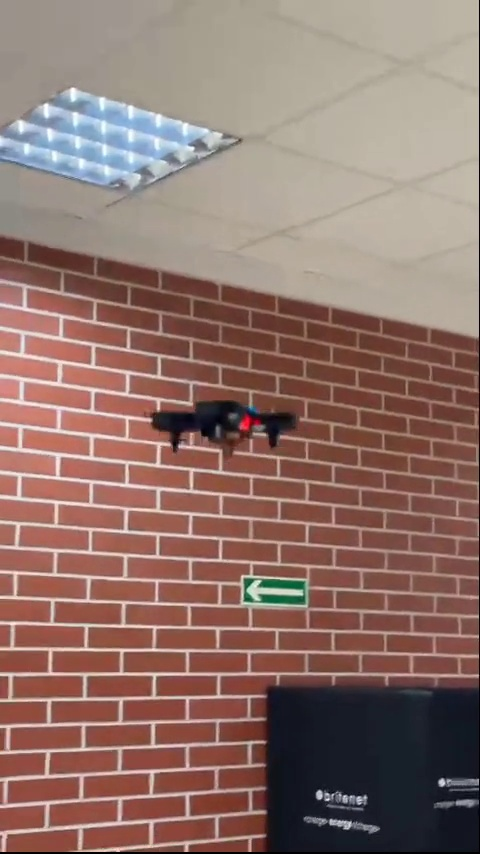drone: (144, 395, 299, 462)
